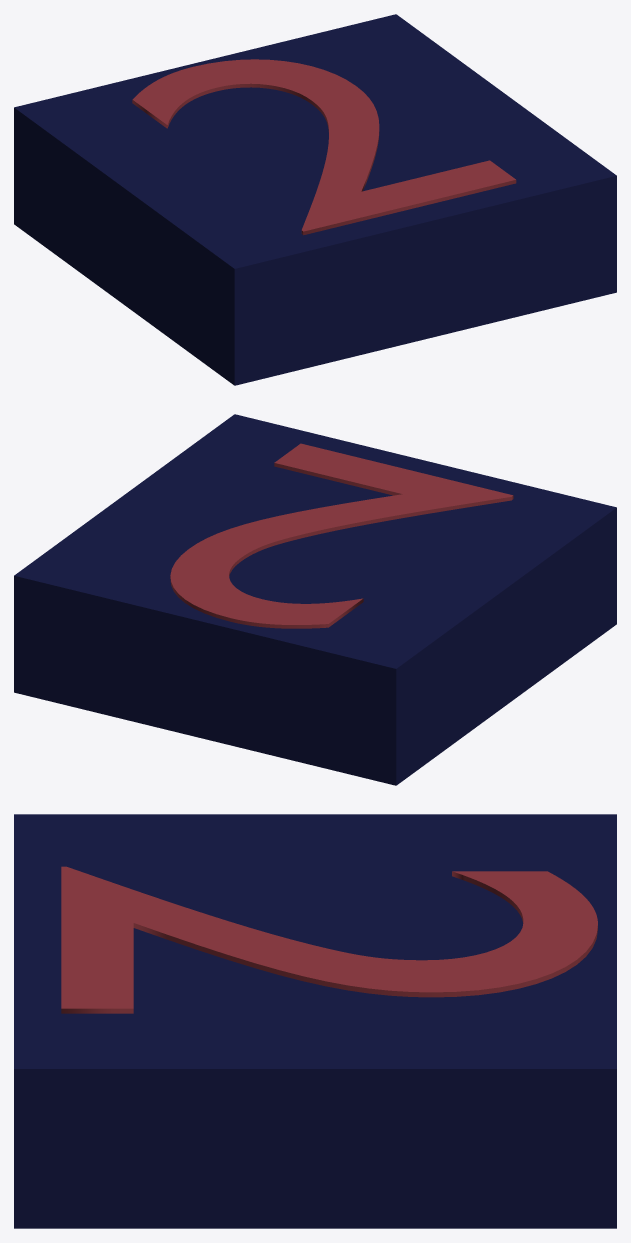
Rendered from two-pad.fbx.
3 renders of one model, top to bottom at view 1: azimuth 30°, elevation 25°; view 2: azimuth 150°, elevation 25°; view 3: azimuth 270°, elevation 25°, orthographic. The views are drawn at different scales.
Parts seen in each view (by area): view 1: Cube, Text; view 2: Cube, Text; view 3: Cube, Text.
Part boxes in pixels (x1,y1,x2,y2): Cube: [14, 14, 616, 385]; Text: [132, 59, 516, 235]; Cube: [14, 414, 616, 785]; Text: [170, 443, 513, 628]; Cube: [14, 814, 616, 1228]; Text: [61, 866, 597, 1013].
Size of the model in its own units: 200 by 60.26 by 200.
